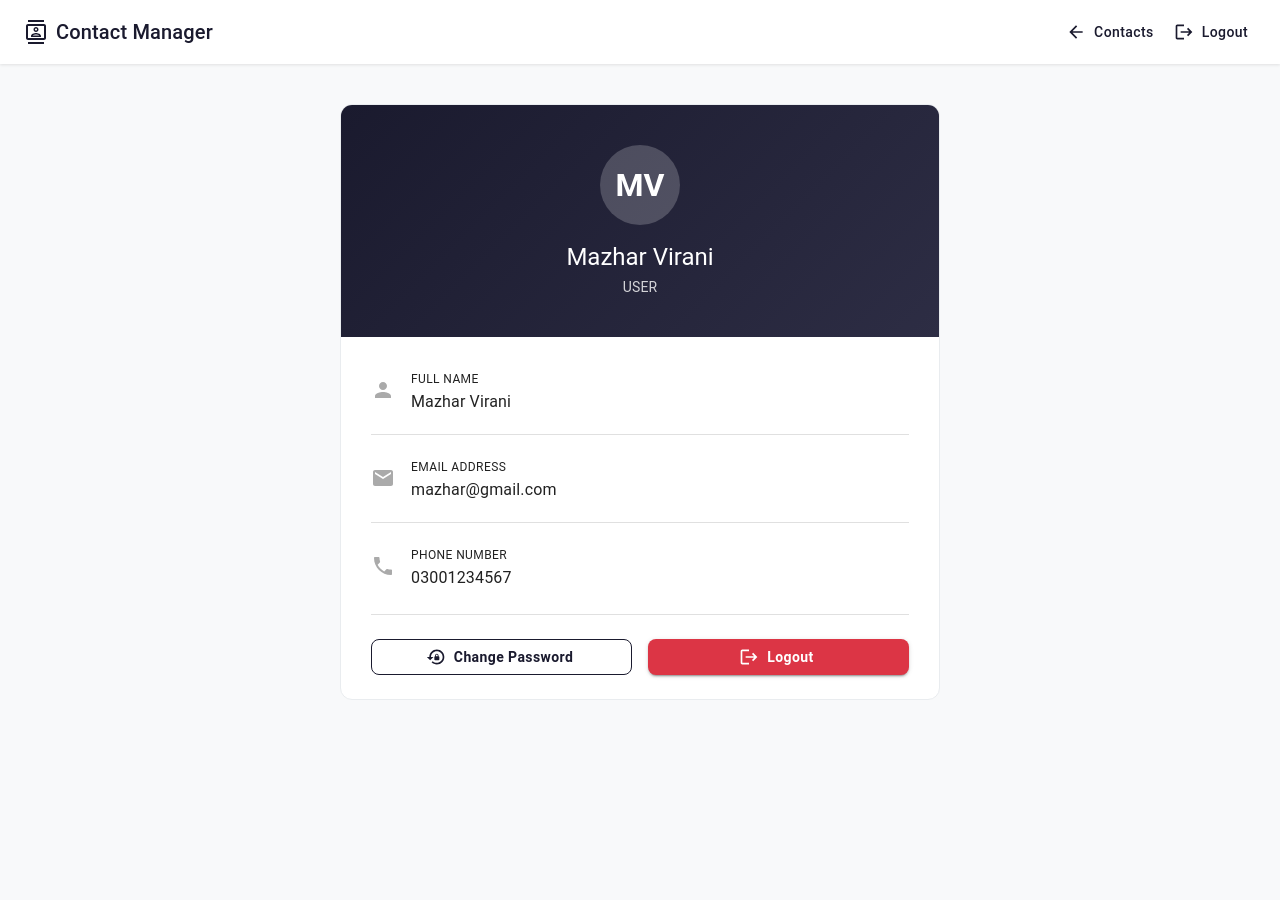
Test: Profile Page › shows error on password change failure
The width and height of the screenshot is (1280, 900).
Expected: the heading "Mazhar Virani" is shown, top-left (566, 243), bottom-right (714, 271)
Click the button "Change Password": (502, 657) top-left (371, 639), bottom-right (632, 675)
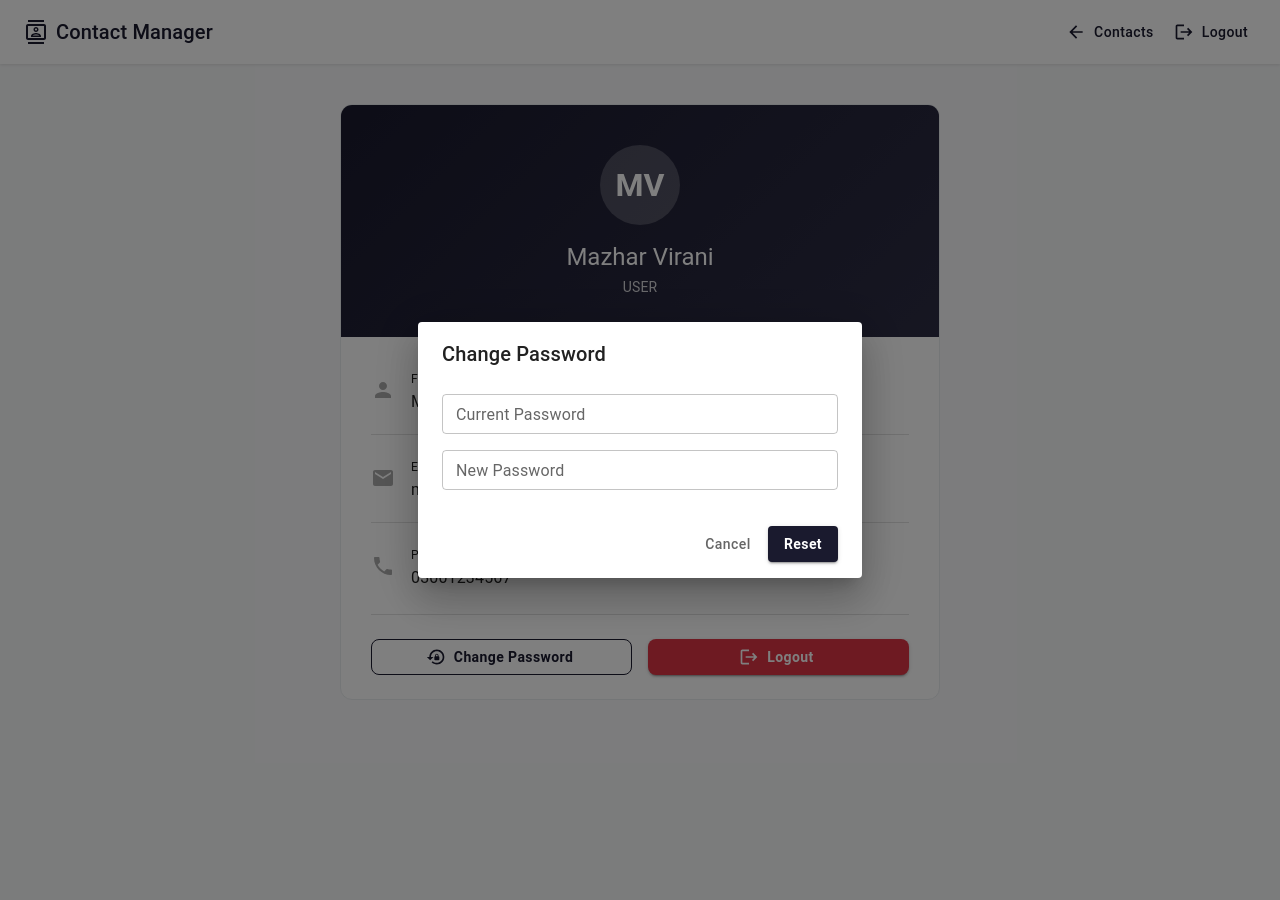
In the password field labelled "Current Password": (640, 414) top-left (442, 394), bottom-right (838, 434), type "wrongPassword"
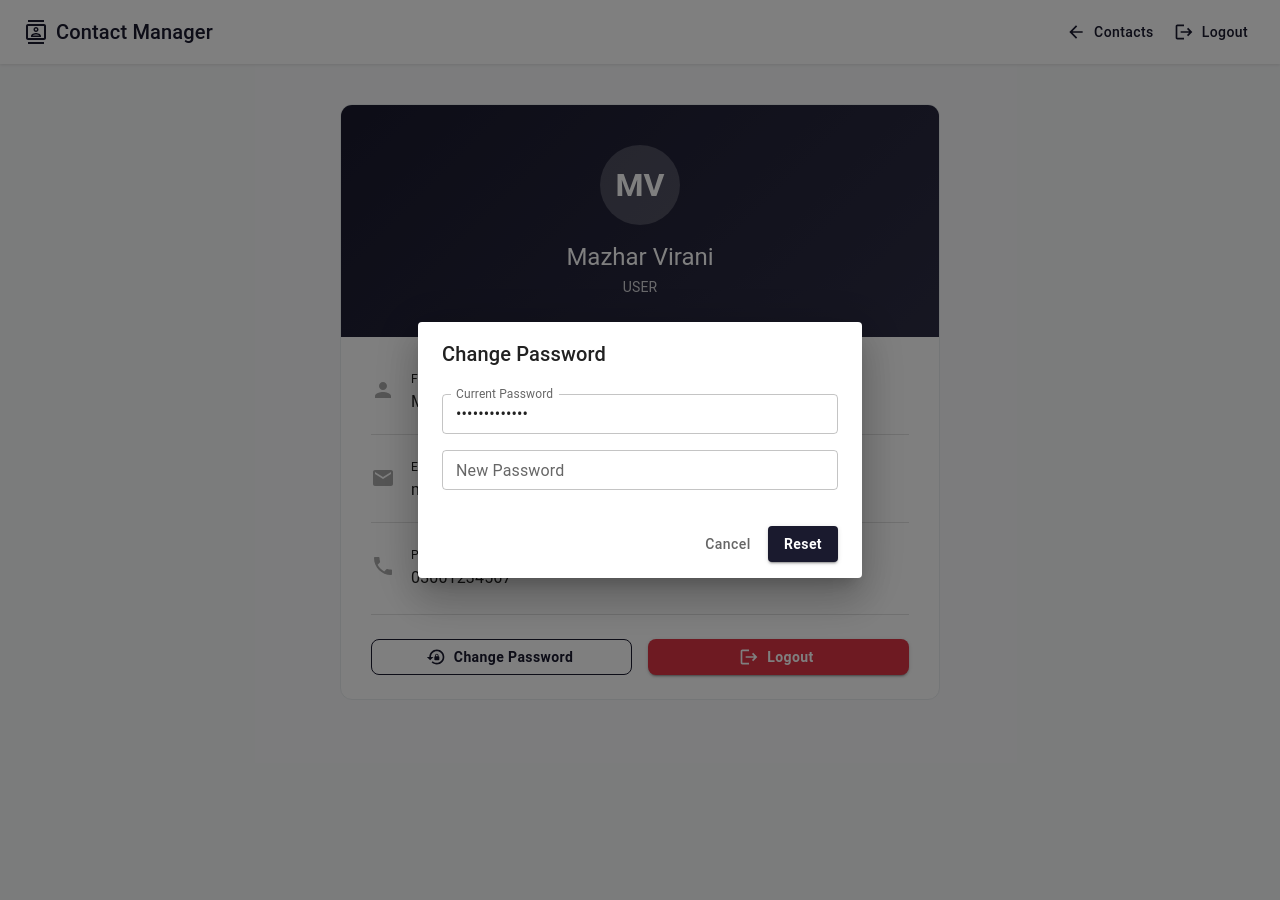
Click the button "Reset": (803, 544) top-left (768, 526), bottom-right (838, 562)
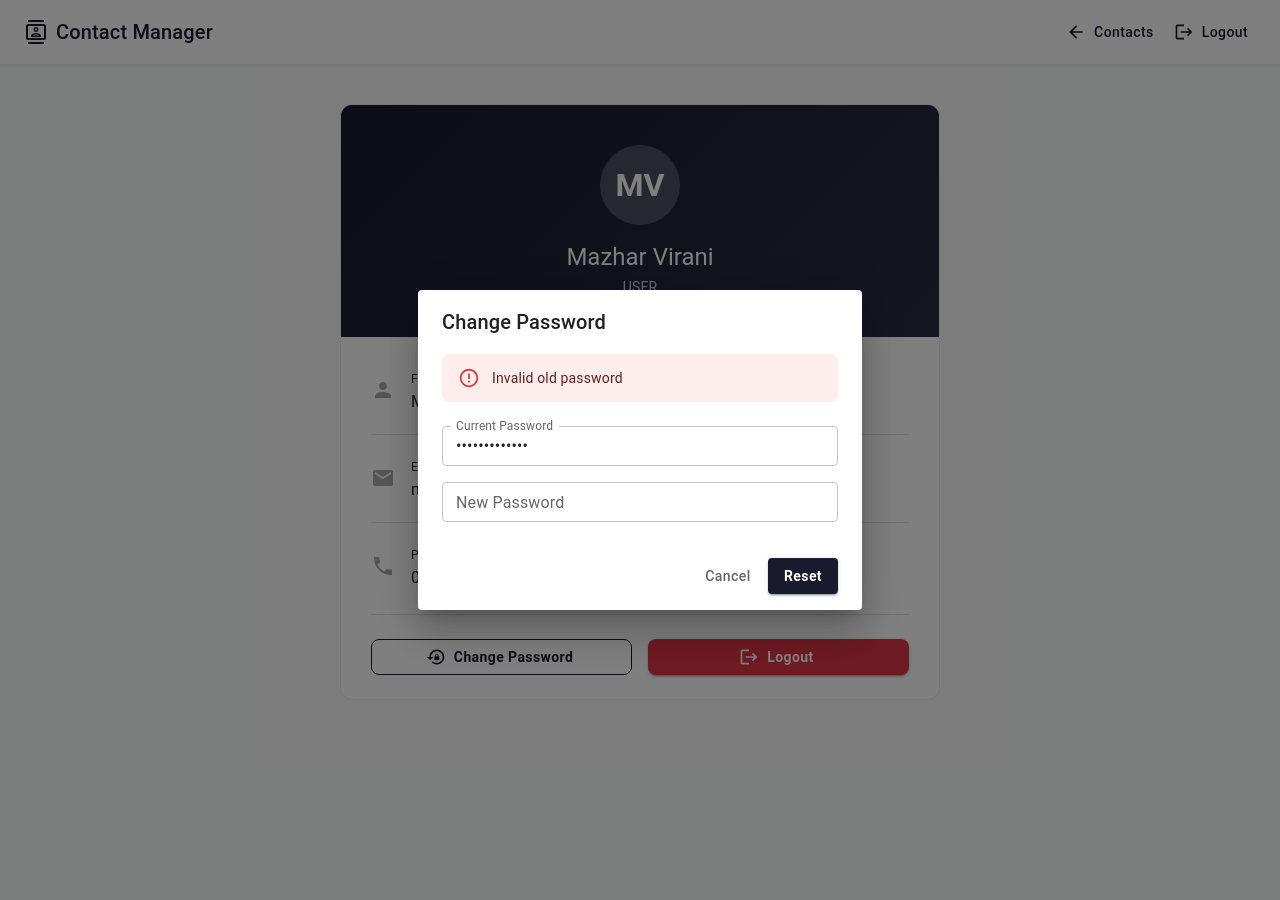
Expected: the text "Invalid old password" is shown, top-left (492, 370), bottom-right (623, 386)
